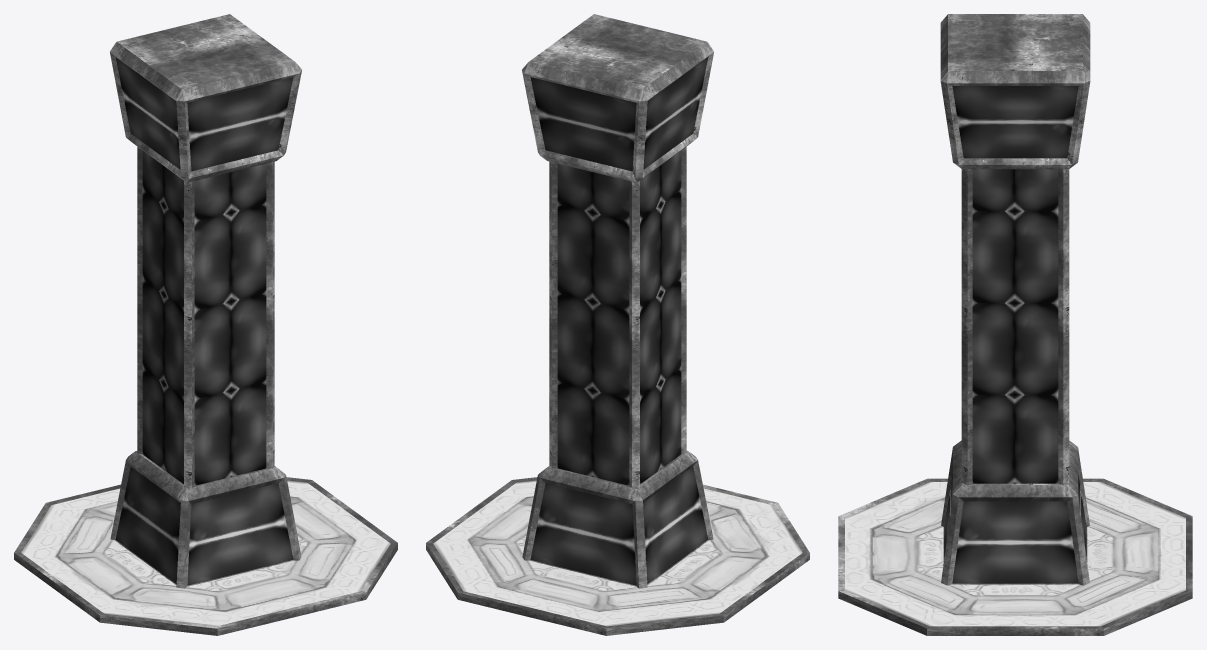
The model's file is column.FBX.
3 views of the same model, side by side, from view 1: azimuth 30°, elevation 25°; view 2: azimuth 150°, elevation 25°; view 3: azimuth 270°, elevation 25° (orthographic). The views are drawn at different scales.
Parts seen in each view (by area): view 1: Box022, Box023; view 2: Box022, Box023; view 3: Box022, Box023.
Boxes of the visible parts, left/top/right/bottom form: Box022: left=110, top=14, right=301, bottom=588; Box023: left=14, top=477, right=397, bottom=635; Box022: left=522, top=14, right=713, bottom=588; Box023: left=426, top=477, right=809, bottom=635; Box022: left=940, top=14, right=1090, bottom=585; Box023: left=838, top=478, right=1192, bottom=635.
Size of the model in its own units: 105 by 172 by 105.
